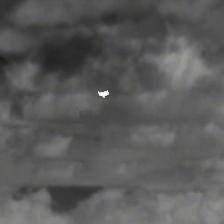Target: (97, 89, 109, 99)
